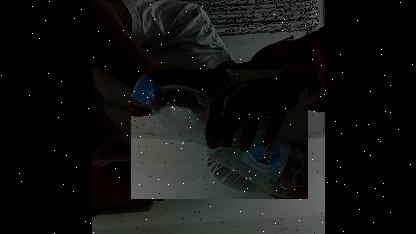Plastic Bottle: (130, 70, 306, 199)
